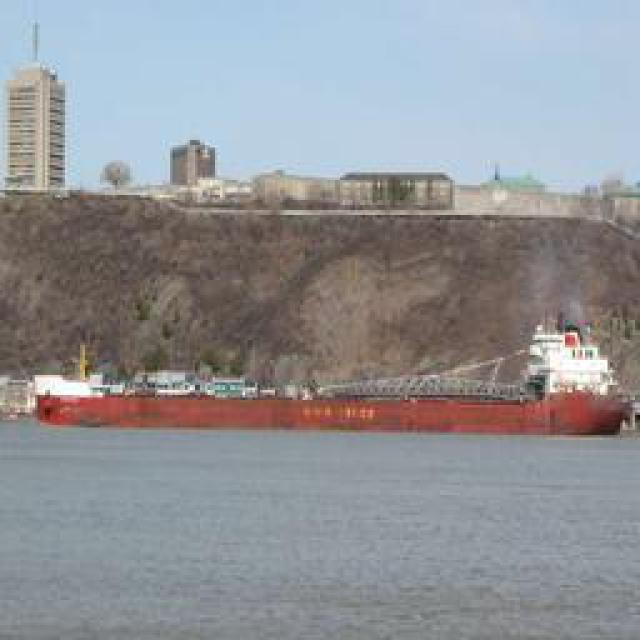Ship: (510, 314, 625, 404)
